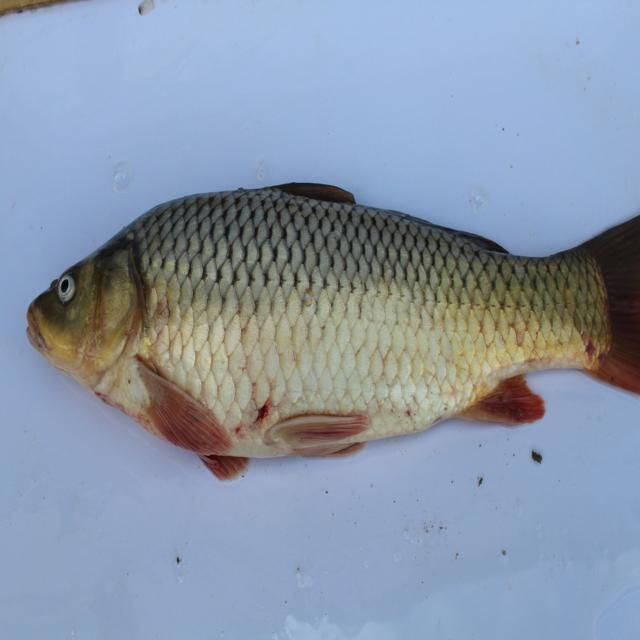CommonCarp: (27, 175, 640, 486)
